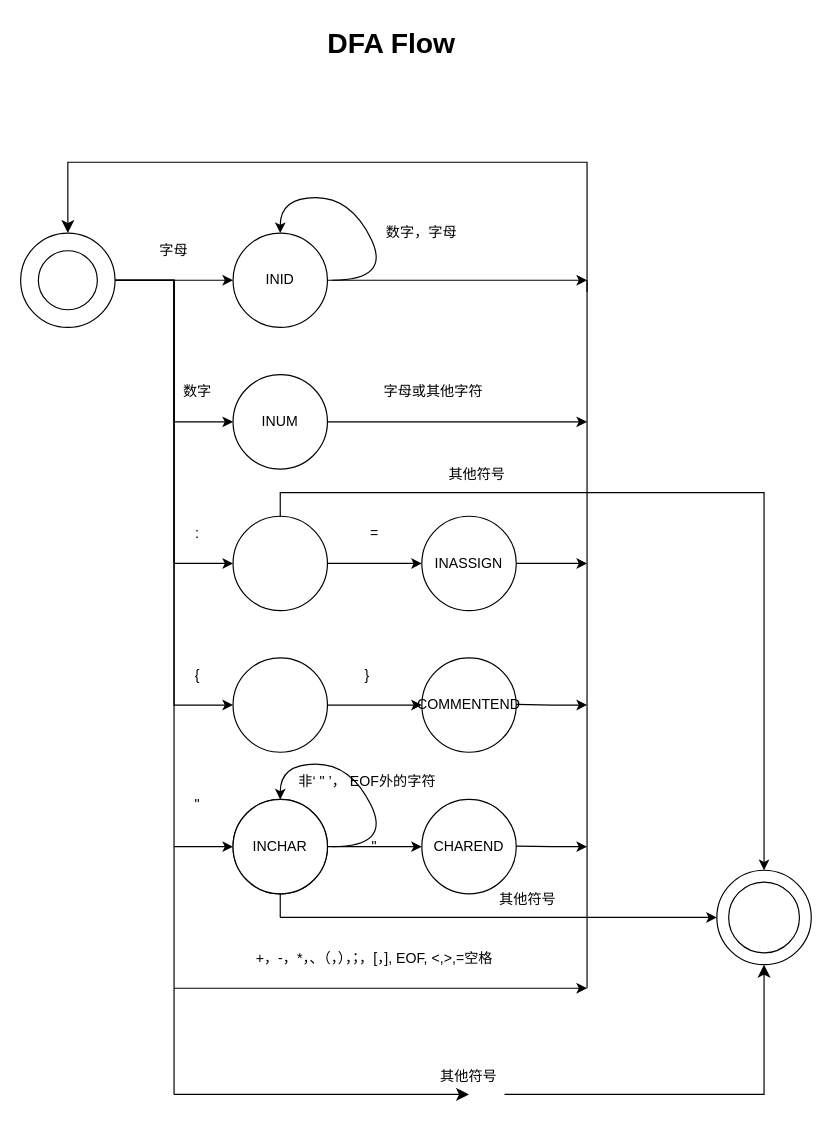
Image size: 832x1127. Some labels were removed from this diagram. Here are the shapes that lost their labels. From the top down, the centre of each, then its label:
At point 67,280: "START".
At point 279,563: "MIDASSIGN".
At point 279,704: "INCOMMENT".
At point 763,917: "ERROR".
